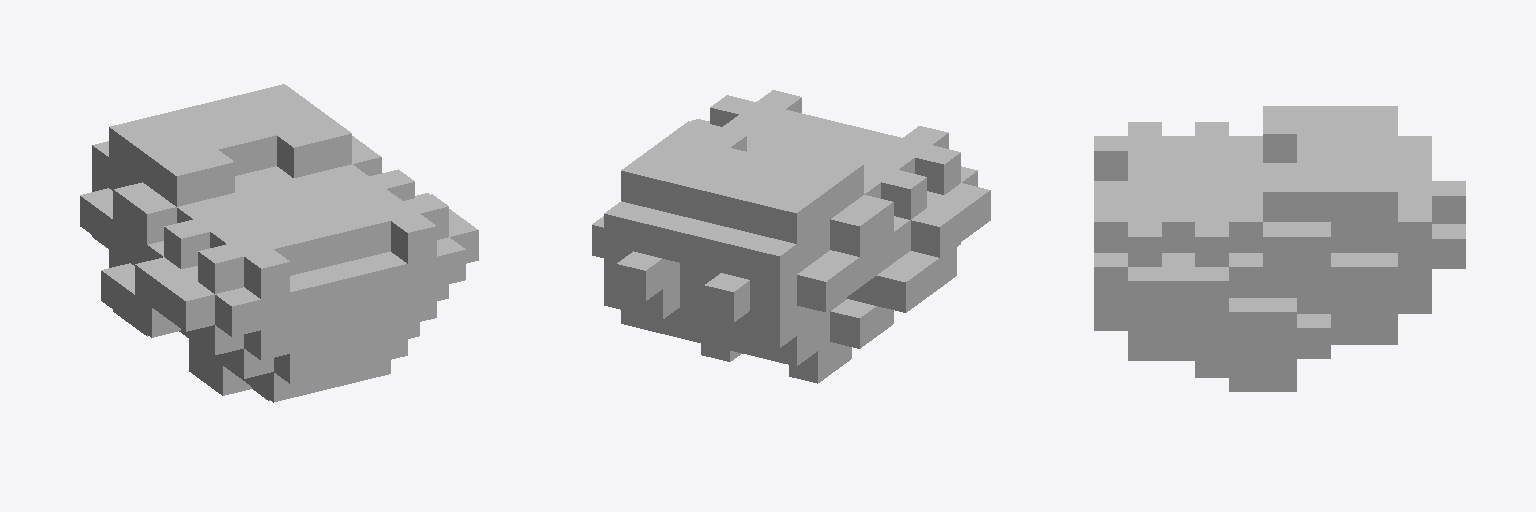
The model's file is goth.obj.
The picture shows the model from 3 angles: view 1: azimuth 30°, elevation 25°; view 2: azimuth 150°, elevation 25°; view 3: azimuth 270°, elevation 25°; orthographic projection.
Parts seen in each view (by area): view 1: Model; view 2: Model; view 3: Model.
Boxes of the visible parts, <box> form: Model: <box>80,84,478,402</box>; Model: <box>592,90,990,383</box>; Model: <box>1094,106,1465,391</box>.
Size of the model in its own units: 1 by 0.7 by 1.1.